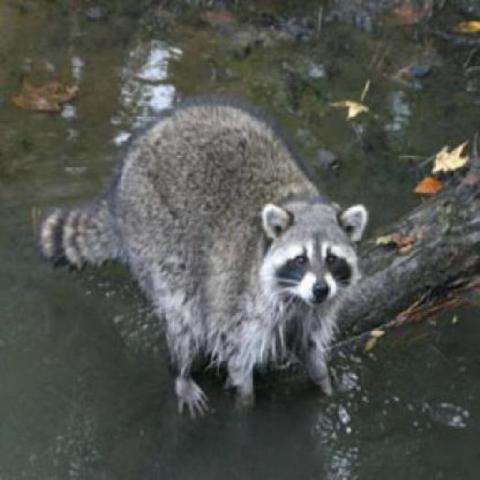small_animal: (38, 96, 370, 418)
